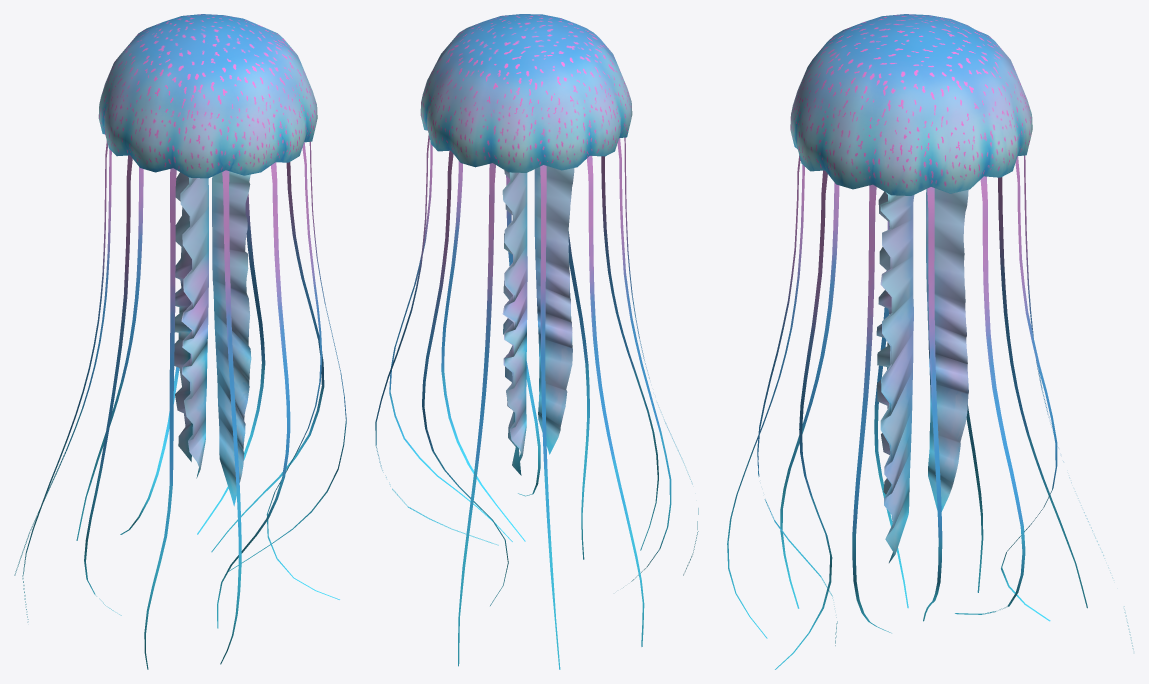
File: jelly.glb
3 views of the same model, side by side, from view 1: azimuth 30°, elevation 25°; view 2: azimuth 150°, elevation 25°; view 3: azimuth 270°, elevation 25° (orthographic). The views are drawn at different scales.
Visible parts, largest first — view 1: node_id418; view 2: node_id418; view 3: node_id418.
Boxes of the visible parts, x1=… form: node_id418: x1=14, y1=14, x2=346, y2=669; node_id418: x1=375, y1=14, x2=698, y2=669; node_id418: x1=727, y1=14, x2=1133, y2=669.
Bounding box in the file's own units: 0.1387 × 0.2736 × 0.1568.
1 material, 1 textured.
